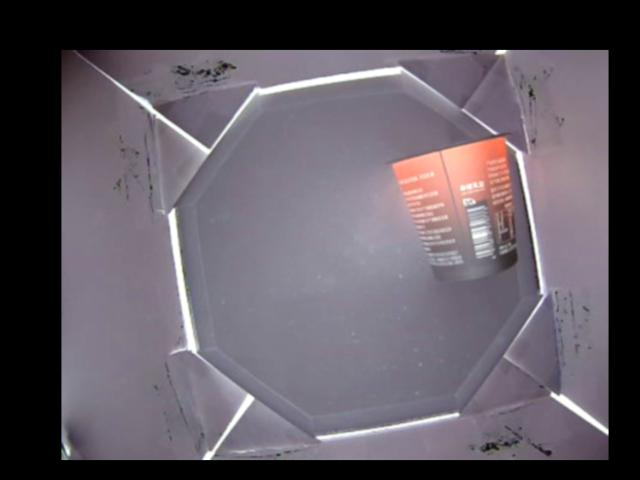Cup: (387, 131, 521, 281)
